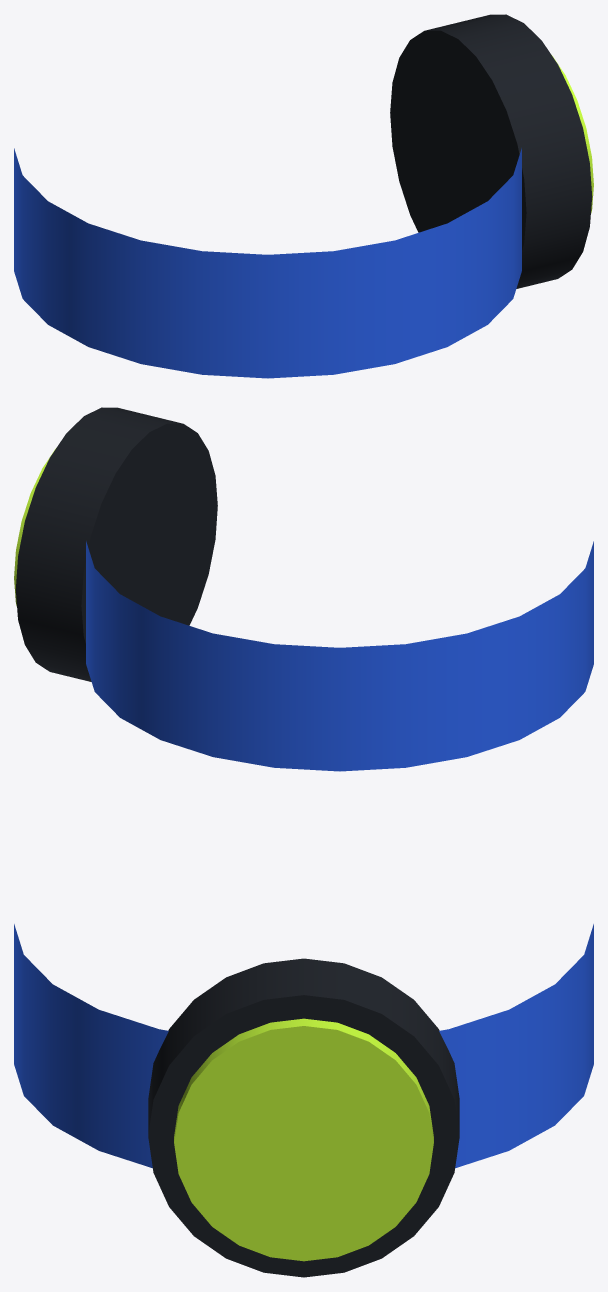
The model's file is watch_sport_female.glb.
3 renders of one model, top to bottom at view 1: azimuth 30°, elevation 25°; view 2: azimuth 150°, elevation 25°; view 3: azimuth 270°, elevation 25°, orthographic. The views are drawn at different scales.
Visible parts, largest first — view 1: band, case, screen; view 2: band, case, screen; view 3: screen, band, case.
Boxes of the visible parts, box(x1,y1,x2,y2) form: band: box(14, 148, 521, 378); case: box(390, 14, 592, 288); screen: box(552, 55, 593, 213); band: box(86, 541, 593, 771); case: box(15, 407, 217, 681); screen: box(14, 448, 55, 606); screen: box(174, 1018, 433, 1261); band: box(14, 924, 593, 1168); case: box(148, 958, 459, 1277).
Size of the model in its own units: 0.0745 by 0.036 by 0.067.
